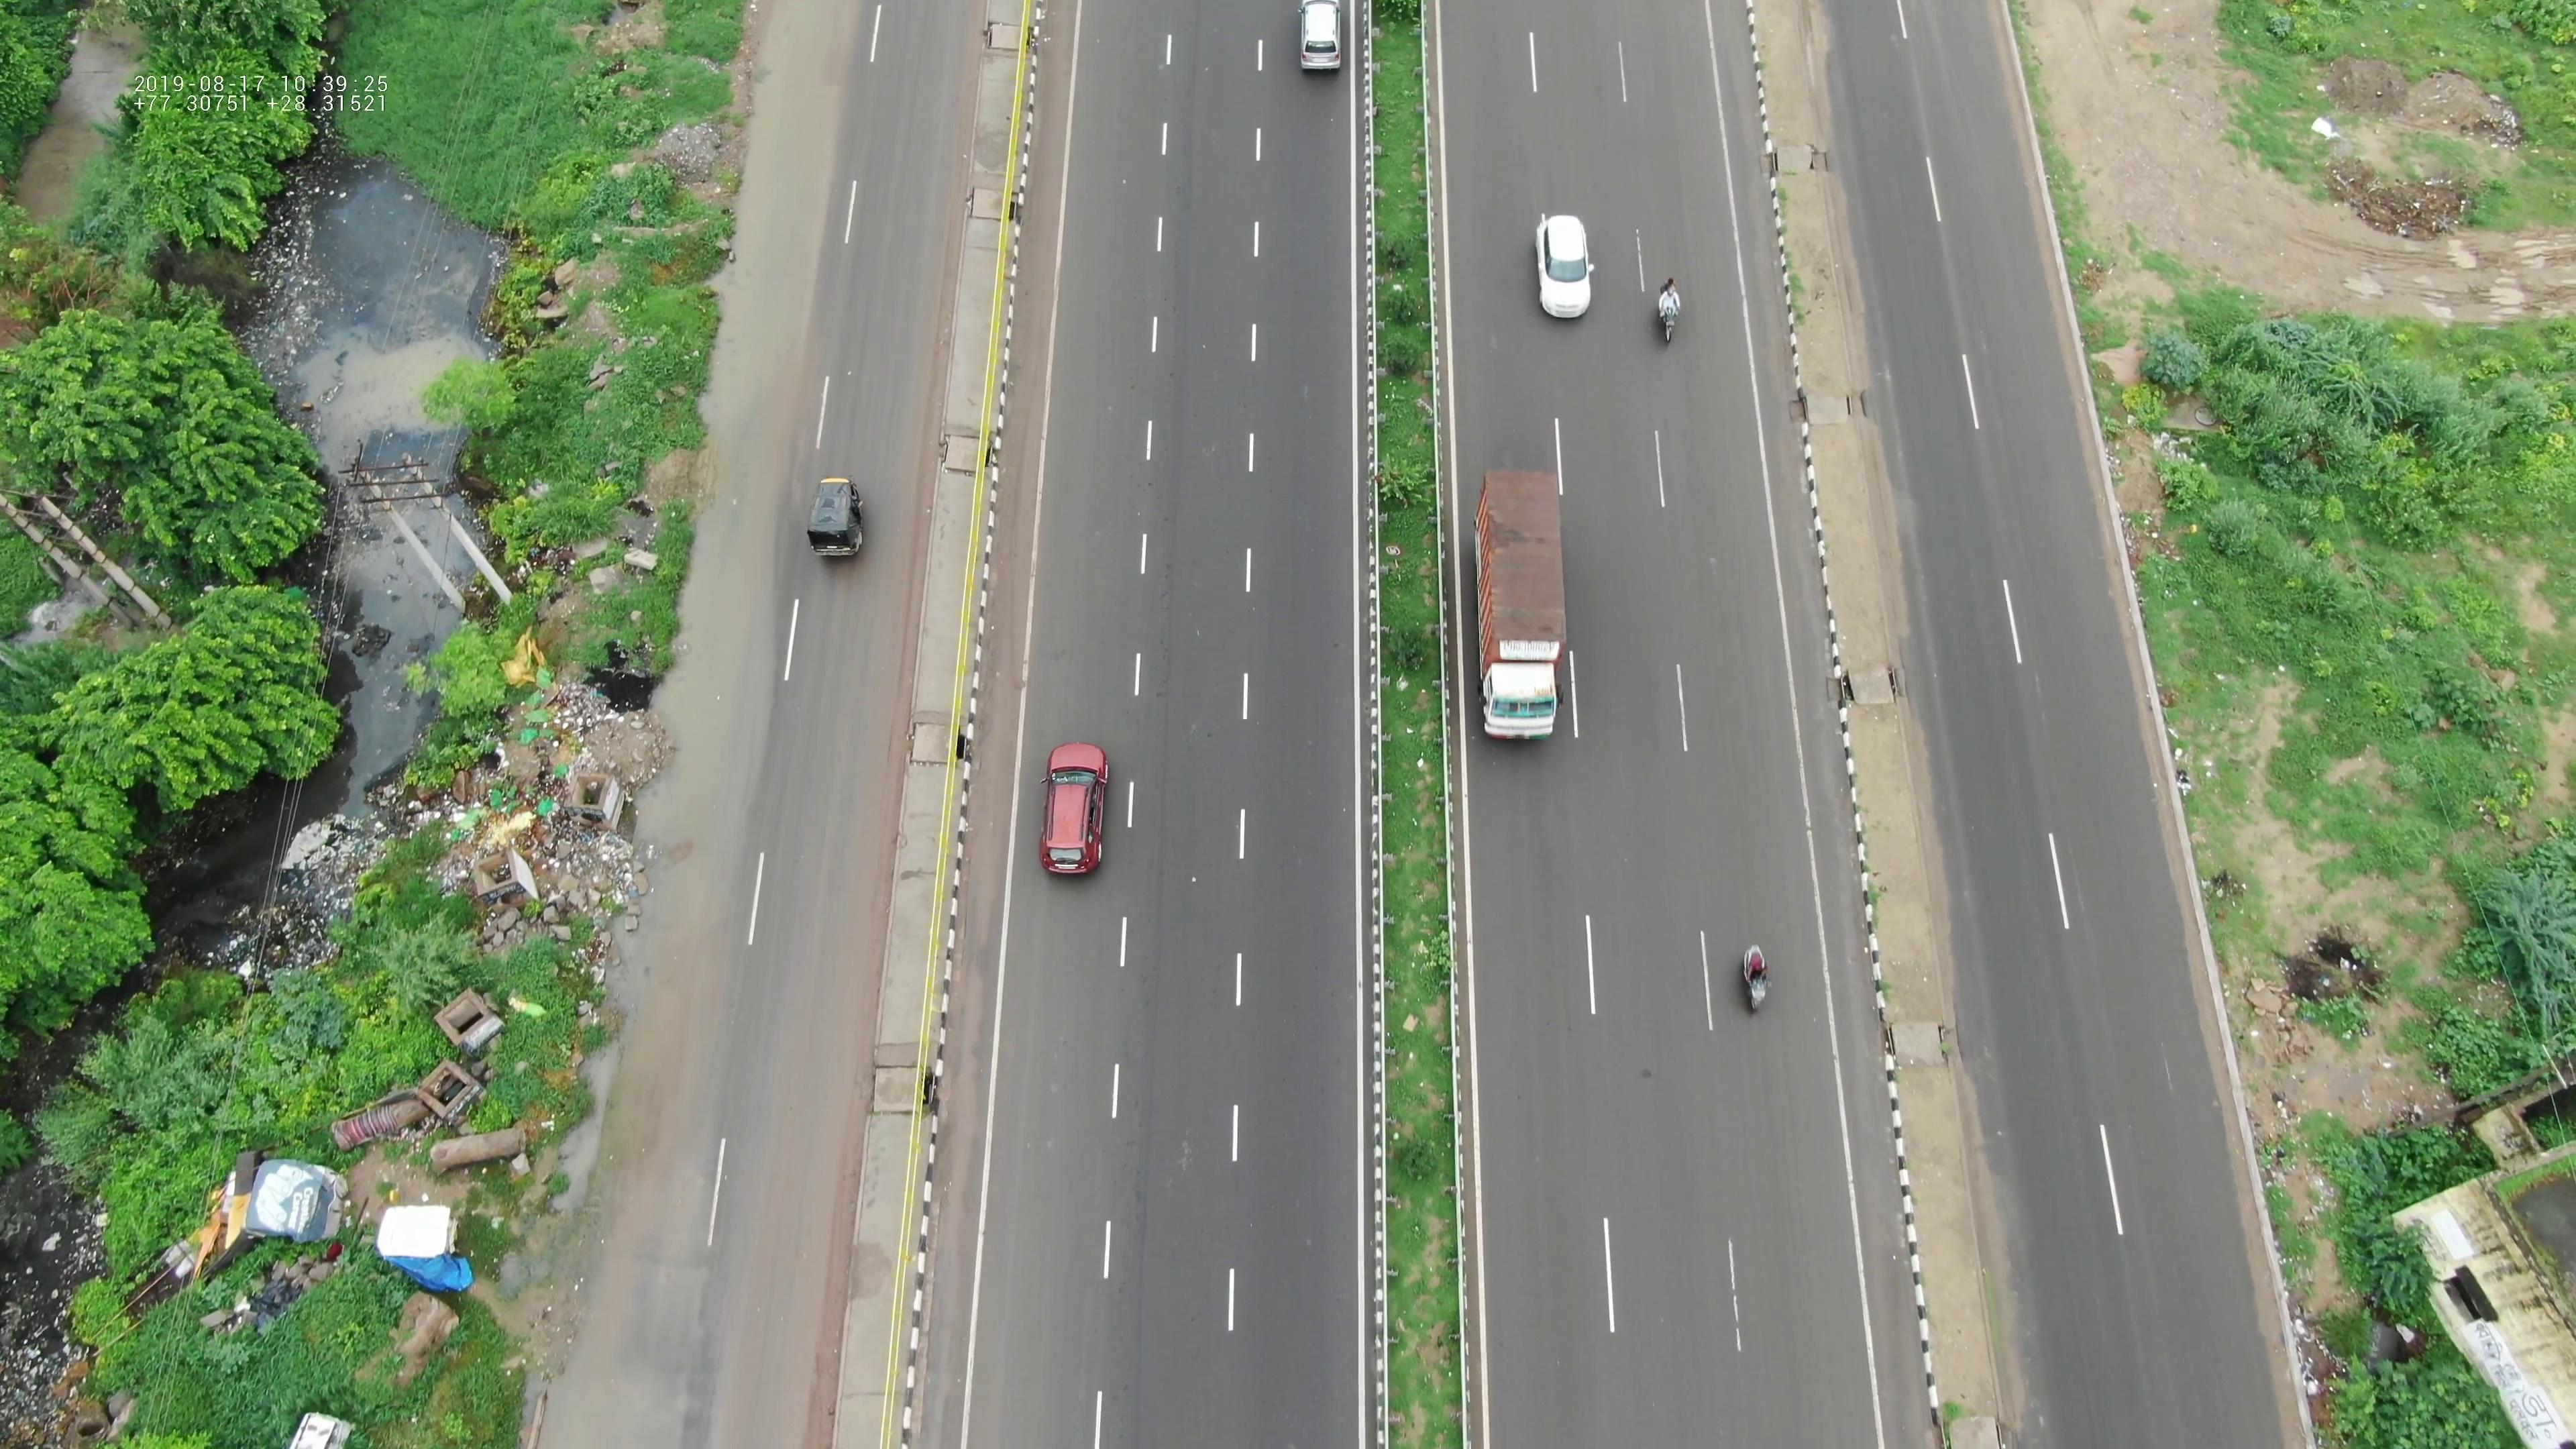Waterlogging: (676, 74, 847, 543), (639, 554, 780, 938)
